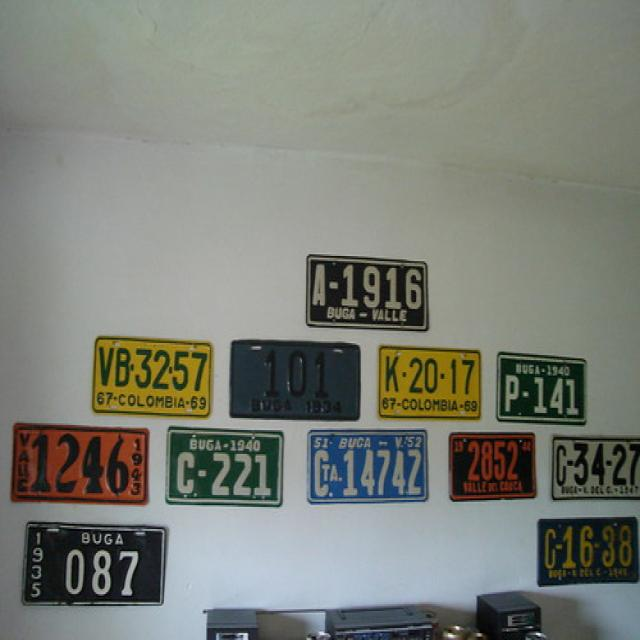placas: (28, 430, 130, 496), (95, 341, 207, 395), (309, 448, 425, 500), (307, 259, 424, 309), (170, 450, 275, 501), (54, 543, 147, 599), (381, 348, 476, 395), (540, 520, 634, 567), (257, 346, 337, 398), (501, 371, 584, 420), (554, 440, 639, 487), (462, 439, 526, 480)
